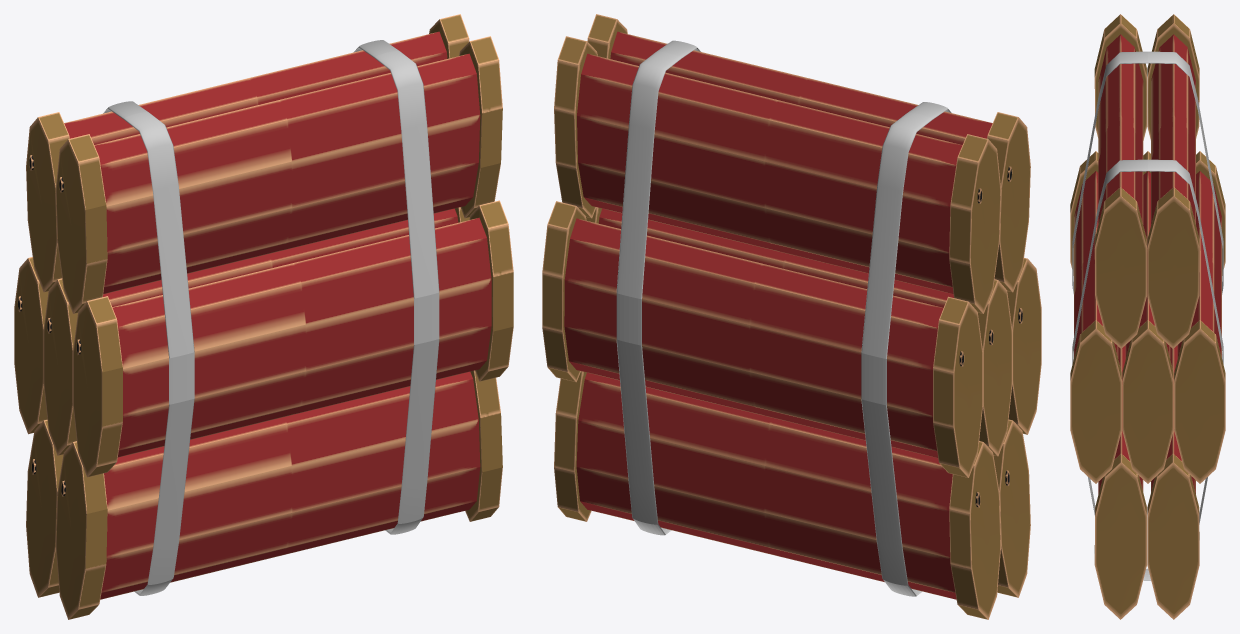
File: daimai1.fbx
3 views of the same model, side by side, from view 1: azimuth 30°, elevation 25°; view 2: azimuth 150°, elevation 25°; view 3: azimuth 270°, elevation 25° (orthographic). The views are drawn at different scales.
Visible parts, largest first — view 1: group5_pCylinder13; view 2: group5_pCylinder13; view 3: group5_pCylinder13.
Part boxes in pixels (left/top/right/bottom): group5_pCylinder13: left=14, top=14, right=513, bottom=619; group5_pCylinder13: left=542, top=14, right=1041, bottom=619; group5_pCylinder13: left=1070, top=14, right=1225, bottom=619.
Size of the model in its own units: 2.01 by 2.19 by 0.7263.
